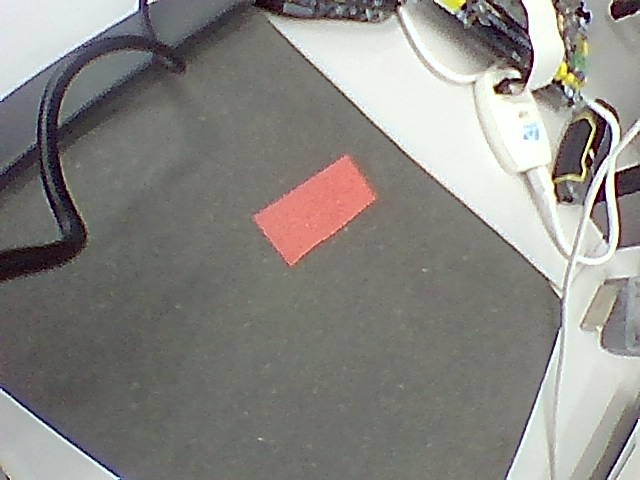card: (254, 156, 376, 265)
